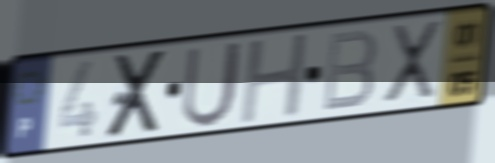4: (56, 57, 101, 143)
B: (320, 26, 380, 115)
H: (237, 29, 312, 128)
U: (178, 37, 246, 131)
X: (103, 45, 172, 142), (380, 17, 443, 106)
